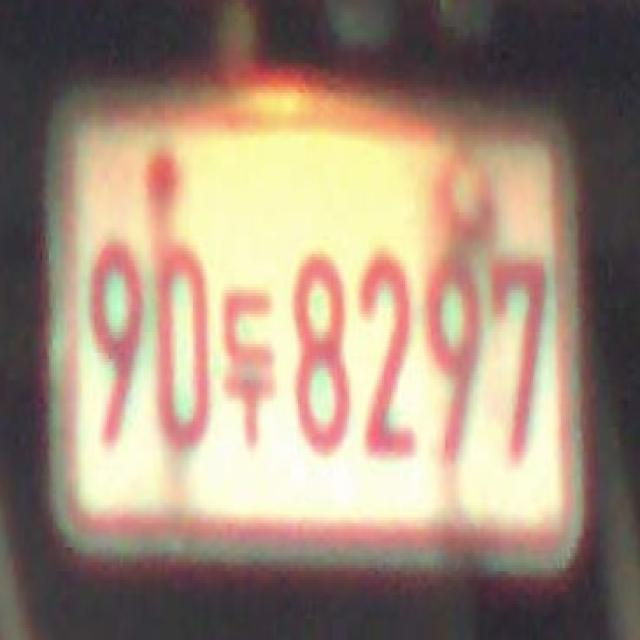plat: (38, 60, 595, 590)
